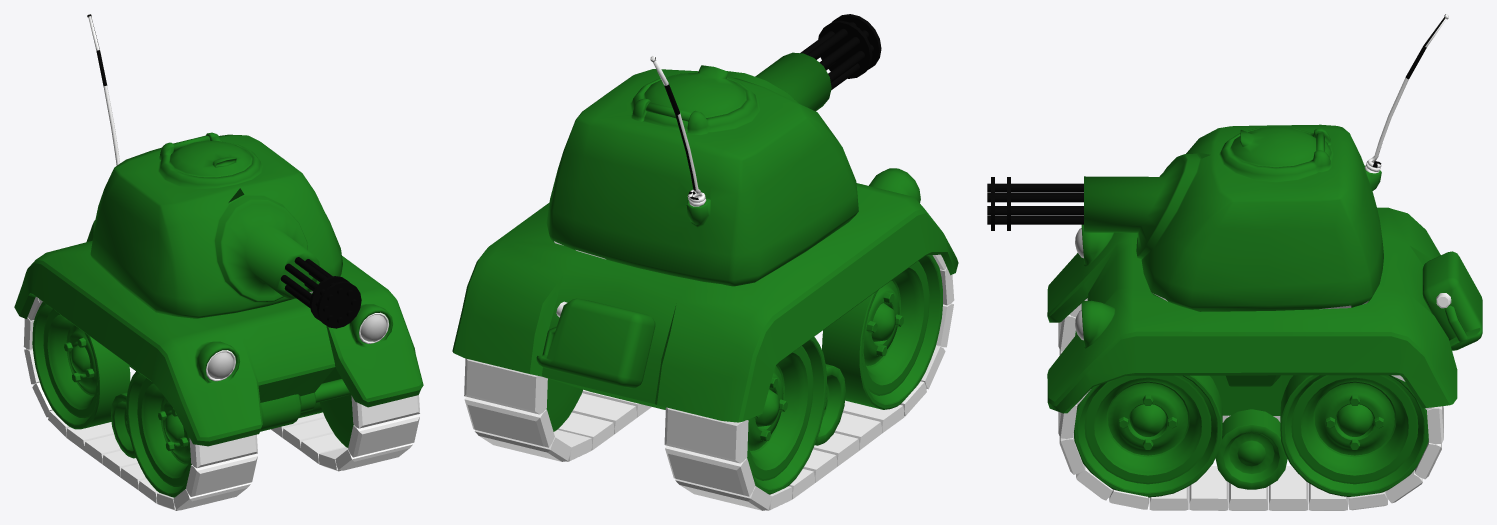
The model's file is TankminiGun.fbx.
The picture shows the model from 3 angles, left to right: view 1: azimuth 30°, elevation 25°; view 2: azimuth 150°, elevation 25°; view 3: azimuth 270°, elevation 25°; orthographic projection. The views are drawn at different scales.
Visible parts, largest first — view 1: TankChassis, TankTurret, TankTracksRight, TankTracksLeft; view 2: TankChassis, TankTurret, TankTracksRight, TankTracksLeft; view 3: TankChassis, TankTurret, TankTracksLeft, TankTracksRight.
Boxes of the visible parts, x1,y1,x2,y2 form: TankChassis: (14, 220, 423, 458); TankTurret: (87, 14, 361, 328); TankTracksRight: (23, 297, 257, 510); TankTracksLeft: (271, 367, 420, 471); TankChassis: (452, 168, 958, 445); TankTurret: (546, 14, 881, 286); TankTracksRight: (664, 254, 954, 510); TankTracksLeft: (464, 358, 651, 461); TankChassis: (1047, 207, 1482, 489); TankTurret: (987, 14, 1448, 311); TankTracksLeft: (1058, 375, 1443, 510); TankTracksRight: (1058, 298, 1280, 422).
Size of the model in its own units: 432 by 632 by 684.
